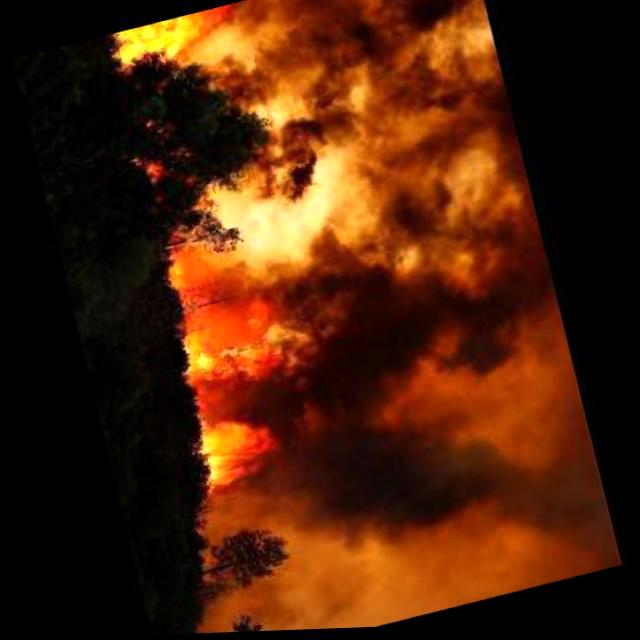fire: (96, 0, 364, 512)
